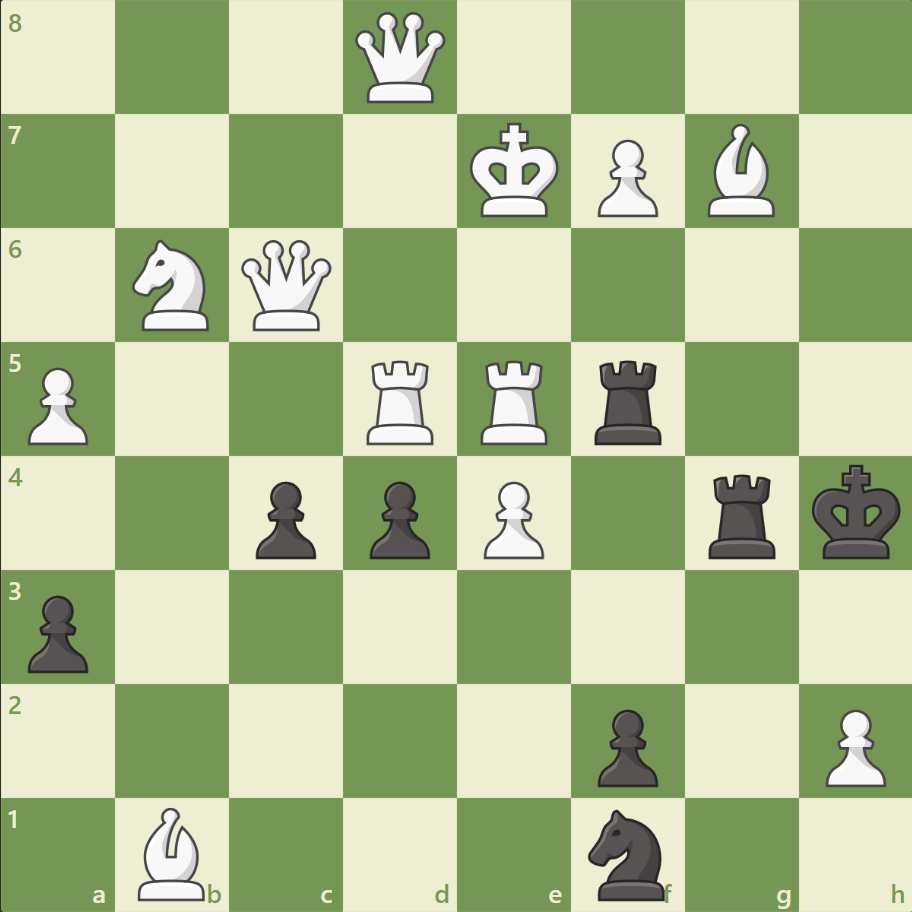B: (131, 801, 215, 904), (698, 120, 782, 222)
K: (465, 117, 565, 225)
N: (124, 234, 222, 337)
P: (20, 359, 95, 450), (474, 473, 549, 564), (588, 132, 662, 223), (815, 700, 889, 791)
Q: (351, 9, 450, 108), (237, 236, 336, 335)
R: (473, 352, 556, 449), (360, 352, 442, 449)
k: (806, 458, 906, 566)
n: (579, 802, 676, 904)
p: (247, 473, 322, 564), (20, 586, 95, 677), (361, 473, 435, 564), (588, 700, 662, 791)
r: (587, 352, 670, 449), (700, 466, 783, 563)
